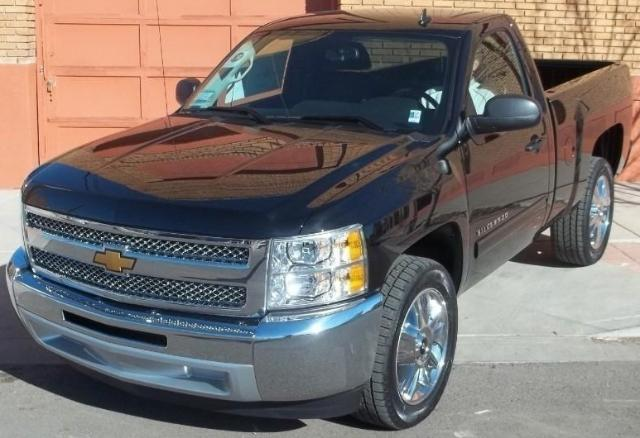pickup-truck: (3, 7, 638, 431)
